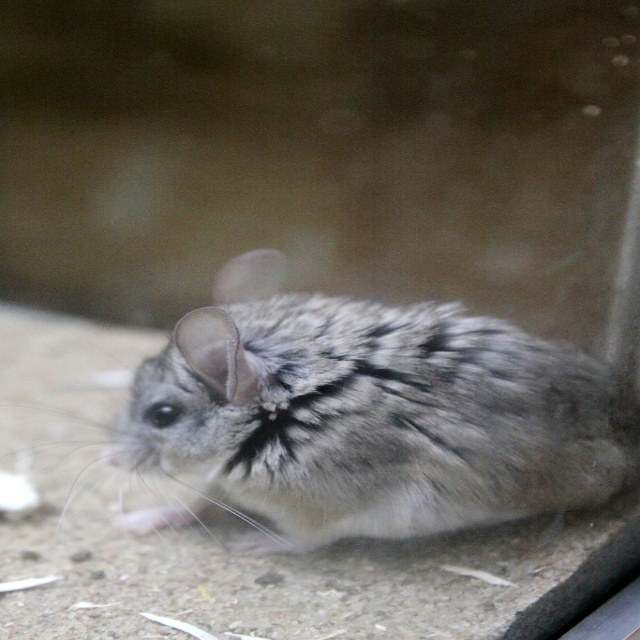Mouse: (0, 247, 640, 559)
